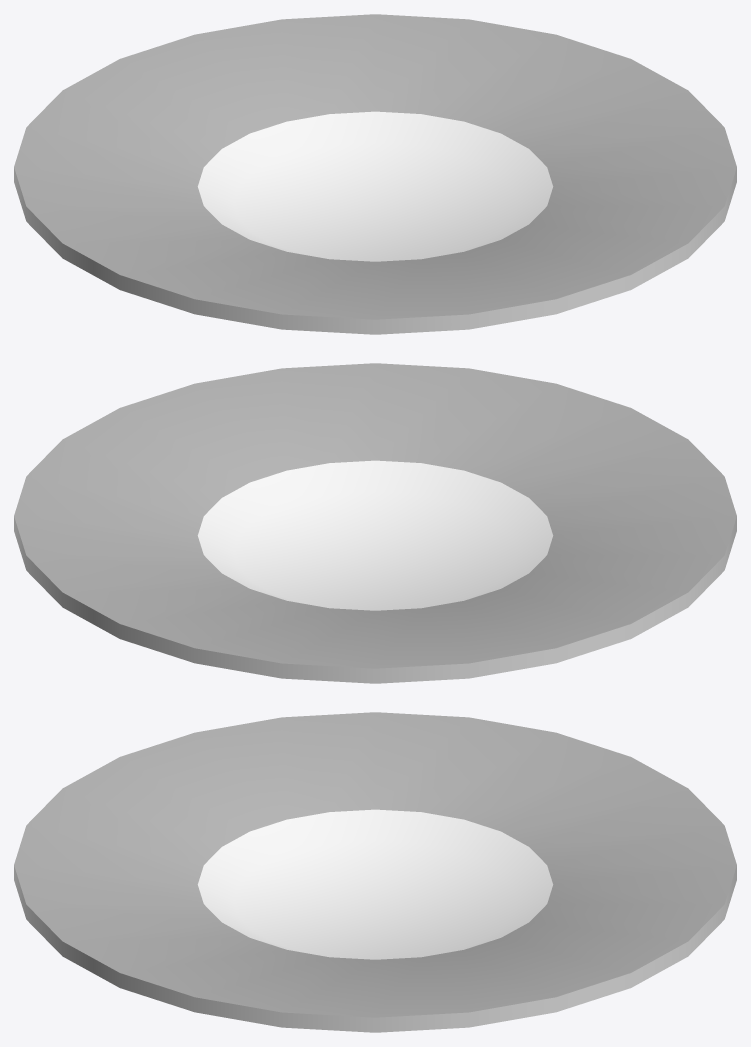
The model's file is Plate.fbx.
3 renders of one model, top to bottom at view 1: azimuth 30°, elevation 25°; view 2: azimuth 150°, elevation 25°; view 3: azimuth 270°, elevation 25°, orthographic.
Visible parts, largest first — view 1: Plate_LOD_0; view 2: Plate_LOD_0; view 3: Plate_LOD_0.
Boxes of the visible parts, box(x1,y1,x2,y2) form: Plate_LOD_0: box(14, 14, 736, 334); Plate_LOD_0: box(14, 363, 736, 683); Plate_LOD_0: box(14, 712, 736, 1032).
Size of what is drawn, in the model's own units: 21.81 by 1.81 by 21.81.
